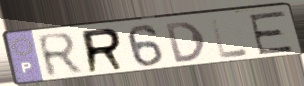6: (125, 23, 165, 69)
D: (163, 19, 208, 65)
E: (246, 9, 296, 56)
L: (208, 16, 252, 61)
R: (35, 31, 87, 81), (80, 26, 128, 76)
